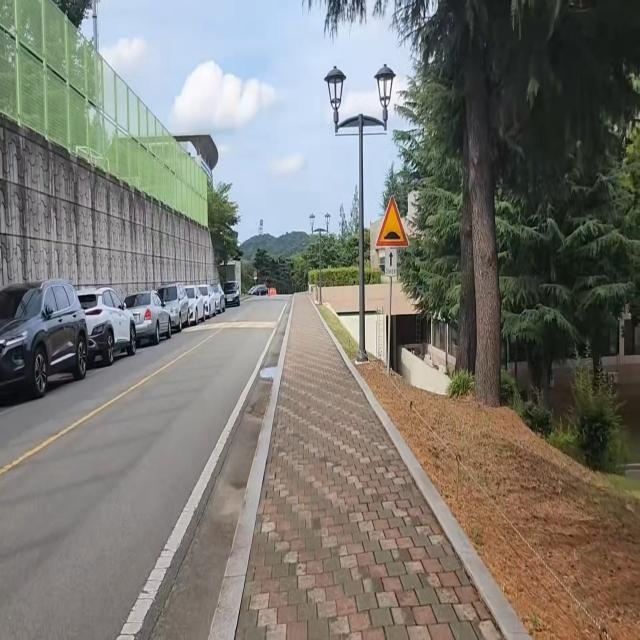obstacle: (321, 59, 395, 363), (68, 276, 242, 370), (0, 265, 95, 416)
road: (0, 296, 293, 640)
sidewalk: (207, 283, 532, 639)
